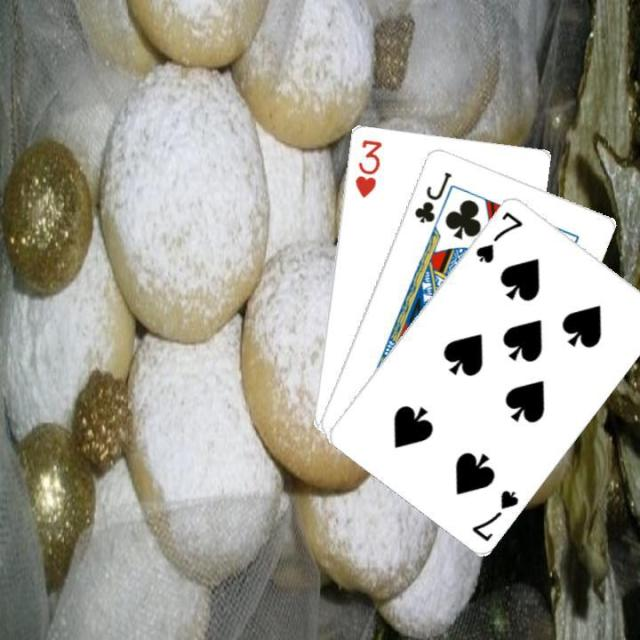3H: (351, 135, 384, 199)
7S: (471, 206, 525, 265), (467, 485, 521, 543)
JC: (410, 167, 453, 224)
